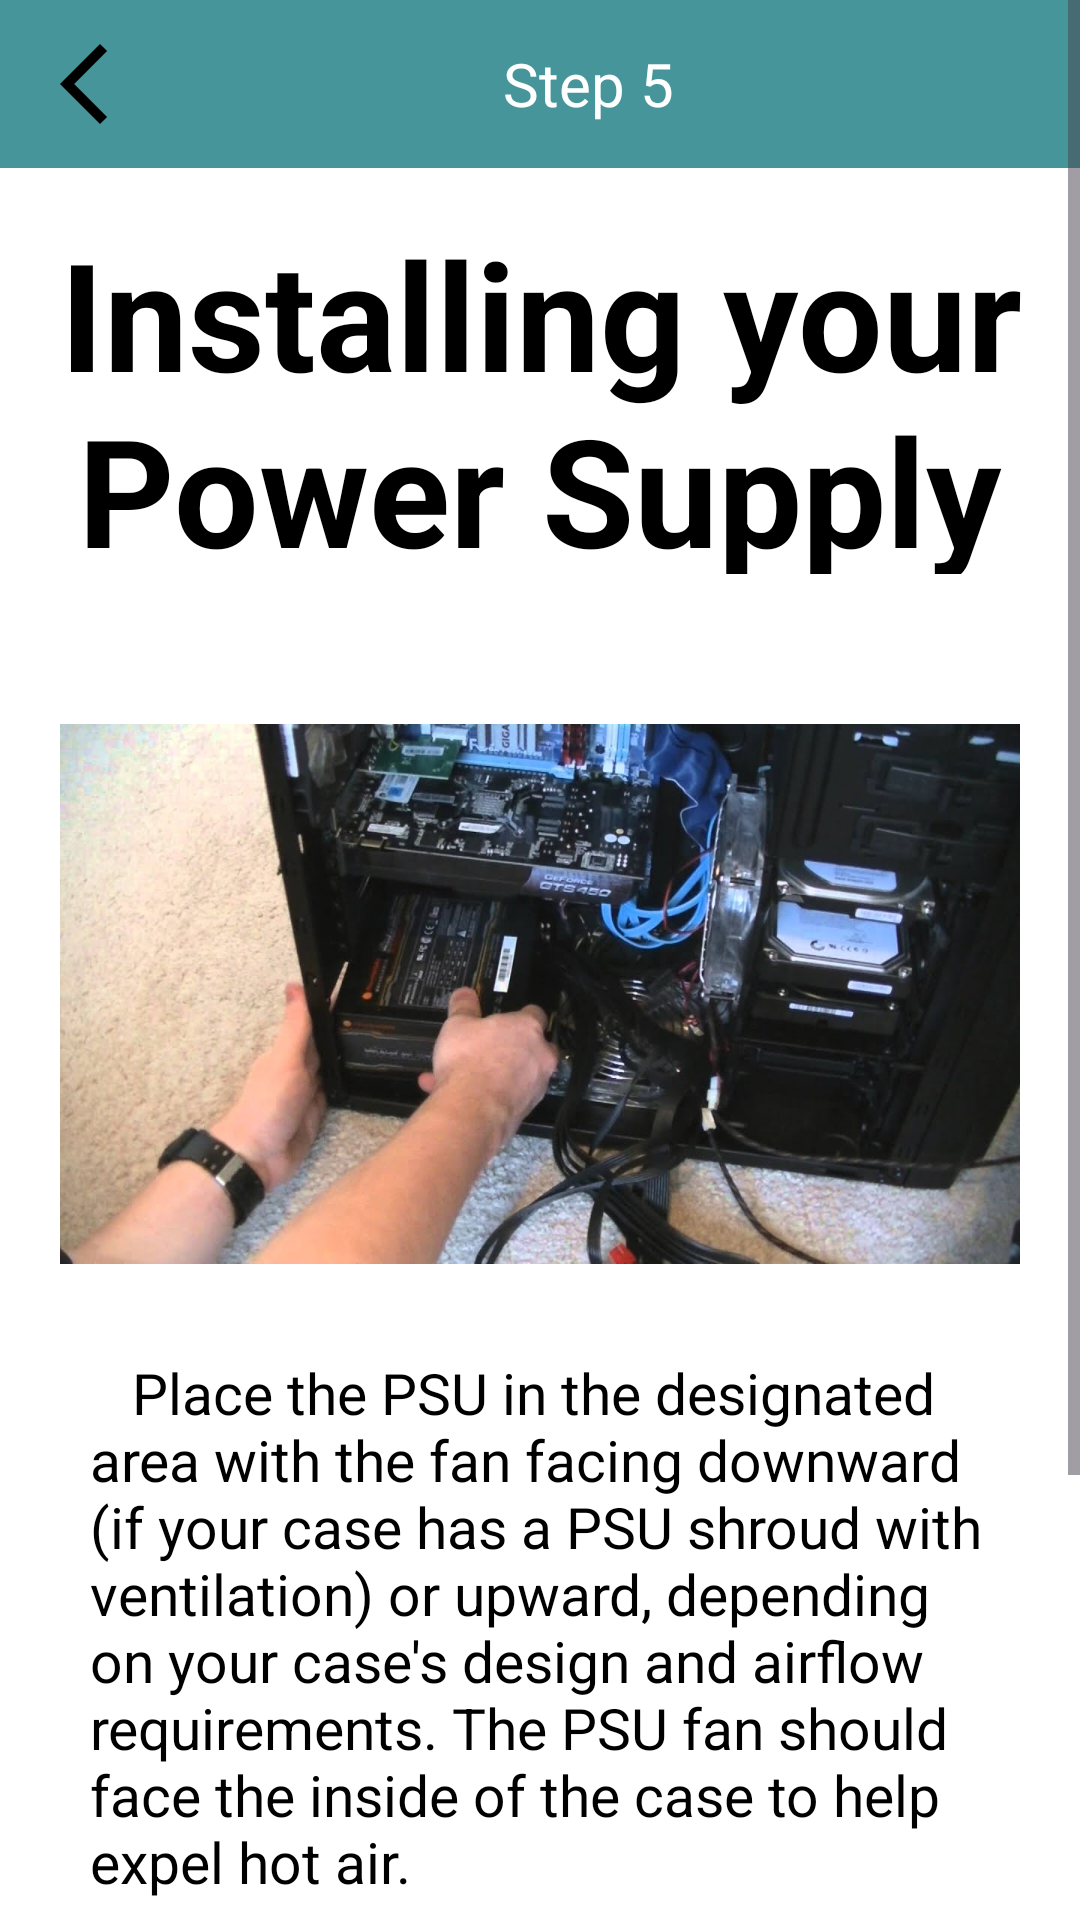

Screen size 1080*1920. Icon name, then its box in pixels as (x1, y1, x2, y2):
Back: (60, 44, 107, 124)
